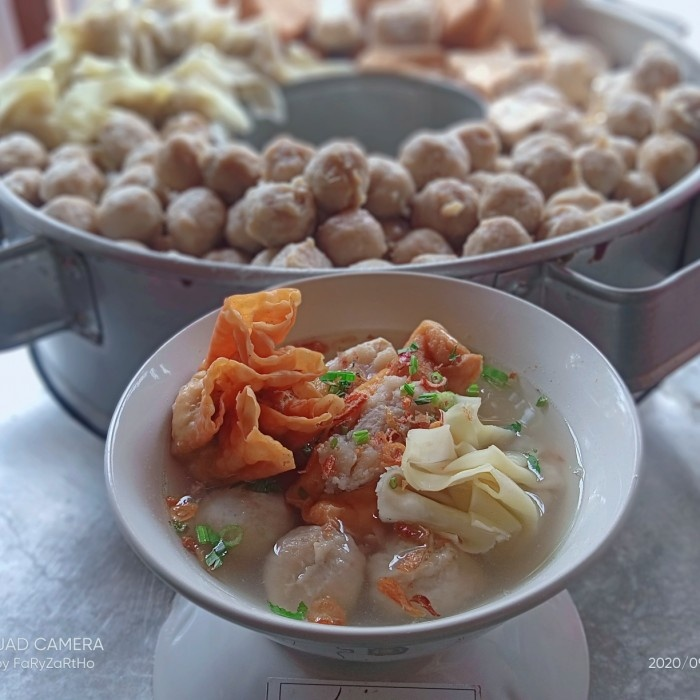bakso_malang: (164, 288, 582, 628)
